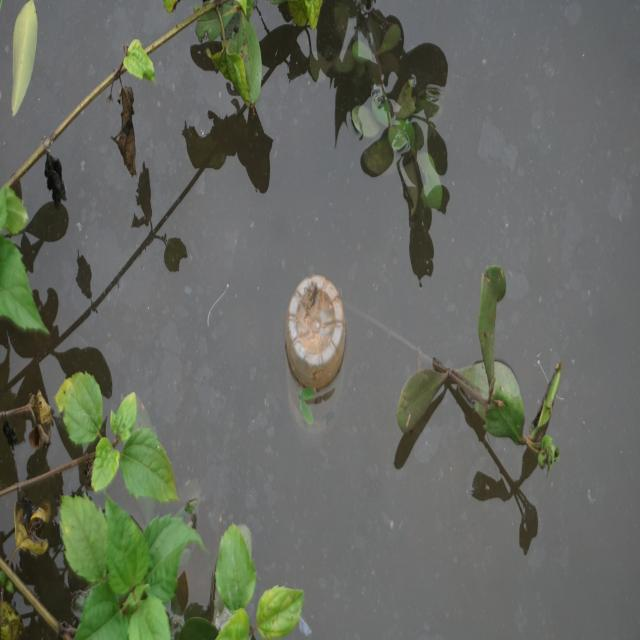Botol Plastik: (276, 269, 353, 397)
